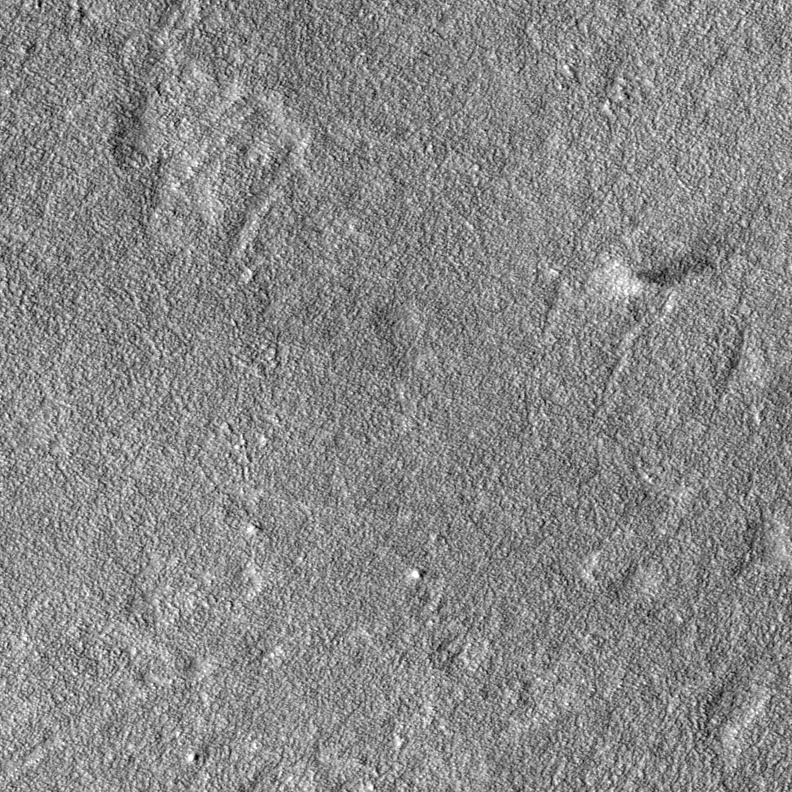dust_devil: (588, 239, 723, 301)
